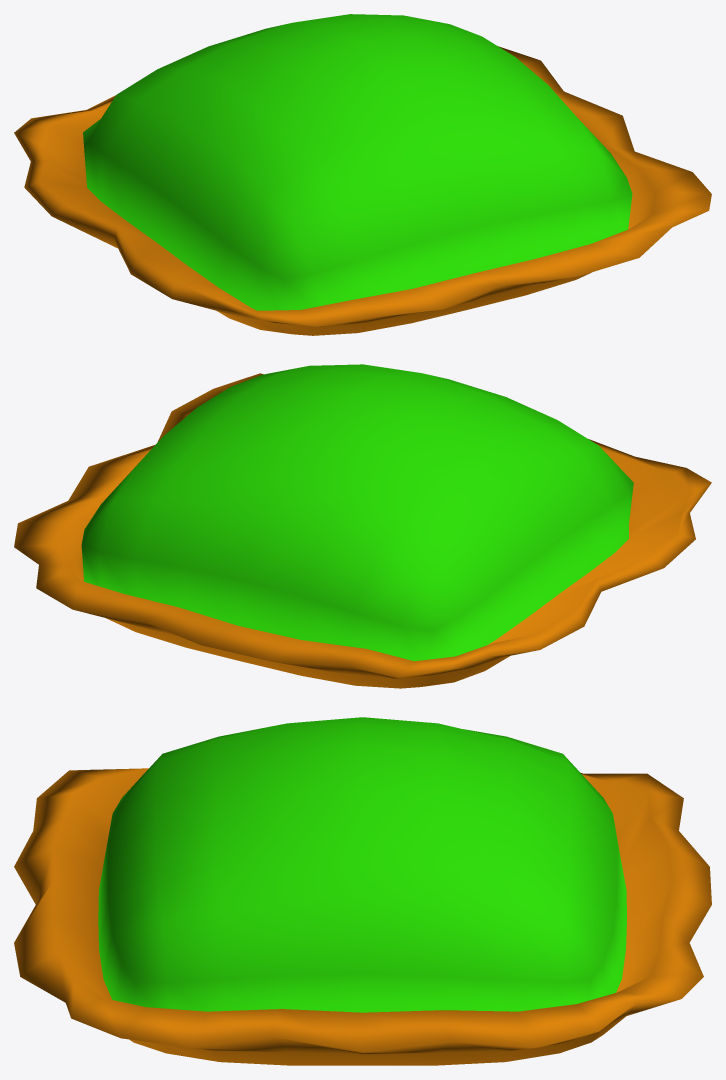
Rendered from Tidepod.fbx.
3 renders of one model, top to bottom at view 1: azimuth 30°, elevation 25°; view 2: azimuth 150°, elevation 25°; view 3: azimuth 270°, elevation 25°, orthographic. The views are drawn at different scales.
Parts seen in each view (by area): view 1: Tidepod; view 2: Tidepod; view 3: Tidepod.
Boxes of the visible parts, <box> form: Tidepod: <box>14,14,711,335</box>; Tidepod: <box>14,364,711,688</box>; Tidepod: <box>14,717,711,1065</box>.
Bounding box in the file's own units: 0.4583 × 0.1661 × 0.4587.
